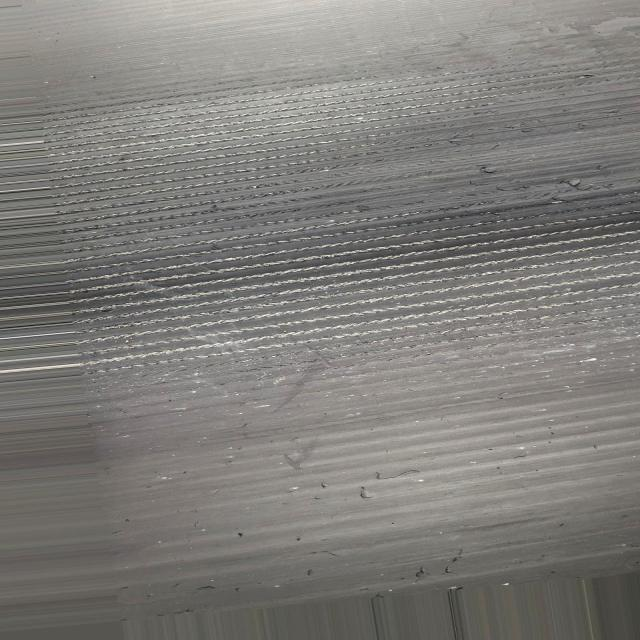Wear: (0, 31, 640, 384)
